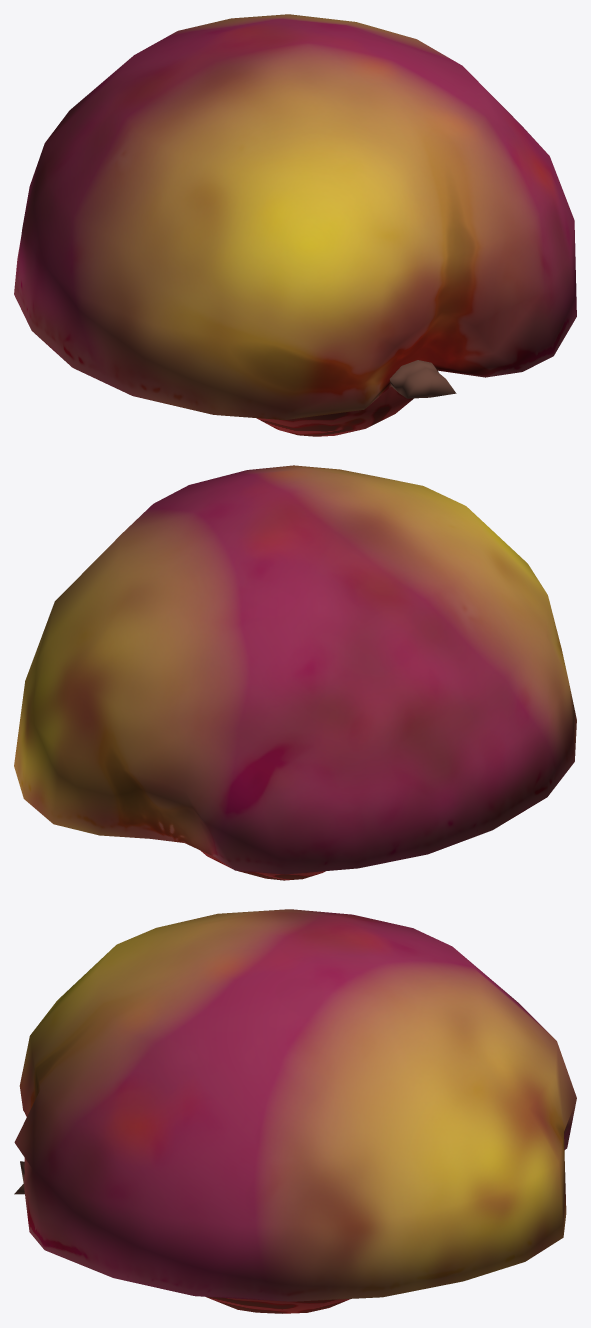
File: NectarinesB.glb
The picture shows the model from 3 angles, top to bottom: view 1: azimuth 30°, elevation 25°; view 2: azimuth 150°, elevation 25°; view 3: azimuth 270°, elevation 25°; orthographic projection.
Parts seen in each view (by area): view 1: NectarinesB_Nectarines_0; view 2: NectarinesB_Nectarines_0; view 3: NectarinesB_Nectarines_0.
Part boxes in pixels (x1=…): NectarinesB_Nectarines_0: x1=14, y1=14, x2=576, y2=436; NectarinesB_Nectarines_0: x1=14, y1=465, x2=576, y2=880; NectarinesB_Nectarines_0: x1=14, y1=909, x2=576, y2=1313.
Size of the model in its own units: 0.863 by 0.6467 by 0.8856.
Materials: 1 (1 with a texture image).
